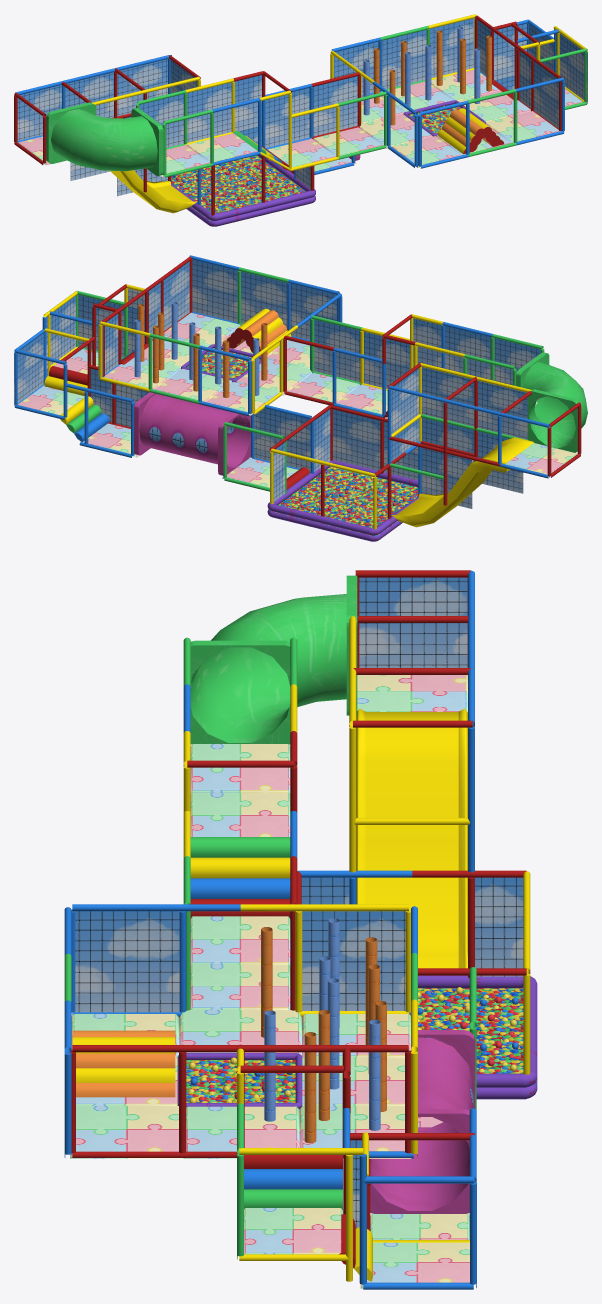
Rendered from playground level.glb.
3 renders of one model, top to bottom at view 1: azimuth 30°, elevation 25°; view 2: azimuth 150°, elevation 25°; view 3: azimuth 270°, elevation 25°, orthographic. The views are drawn at different scales.
Visible parts, largest first — view 1: Tunnel_C2, Ballpit8, pPlane57, pPlane56, pPlane52, pPlane66, pPlane67, pPlane28, pCylinder73, Slide2, pPlane30, pPlane27 (+71 smaller); view 2: Tunnel_S2, Tunnel_C2, Ballpit8, Slide2, pPlane92, pPlane63, pPlane59, pPlane40, pPlane90, pPlane41, pPlane58, pPlane62 (+85 smaller); view 3: Slide2, Tunnel_C2, pPlane64, pPlane32, Tunnel_S2, pPlane69, pCylinder73, Floor28, Floor35, pPlane96, Floor29, Floor21 (+52 smaller).
Part boxes in pixels (bbox=[...]): Tunnel_C2: bbox=[46, 102, 163, 175]; Ballpit8: bbox=[171, 154, 315, 226]; pPlane57: bbox=[313, 76, 357, 136]; pPlane56: bbox=[265, 87, 313, 148]; pPlane52: bbox=[188, 82, 231, 142]; pPlane66: bbox=[382, 30, 426, 89]; pPlane67: bbox=[430, 18, 473, 78]; pPlane28: bbox=[113, 60, 162, 116]; pCylinder73: bbox=[437, 108, 504, 153]; Slide2: bbox=[110, 170, 197, 213]; pPlane30: bbox=[17, 85, 61, 140]; pPlane27: bbox=[65, 72, 113, 117]; Tunnel_S2: bbox=[139, 394, 245, 466]; Tunnel_C2: bbox=[516, 352, 587, 452]; Ballpit8: bbox=[267, 460, 418, 541]; Slide2: bbox=[391, 437, 533, 527]; pPlane92: bbox=[333, 409, 380, 470]; pPlane63: bbox=[192, 259, 237, 322]; pPlane59: bbox=[314, 319, 359, 381]; pPlane40: bbox=[422, 367, 472, 426]; pPlane90: bbox=[260, 408, 310, 471]; pPlane41: bbox=[472, 380, 523, 438]; pPlane58: bbox=[359, 331, 409, 388]; pPlane62: bbox=[241, 271, 286, 326]; Slide2: bbox=[356, 708, 467, 968]; Tunnel_C2: bbox=[190, 575, 357, 744]; pPlane64: bbox=[71, 910, 181, 1012]; pPlane32: bbox=[359, 577, 467, 667]; Tunnel_S2: bbox=[370, 1037, 473, 1206]; pPlane69: bbox=[302, 911, 410, 1012]; pCylinder73: bbox=[72, 1030, 175, 1097]; Floor28: bbox=[70, 1106, 183, 1158]; Floor35: bbox=[244, 1208, 343, 1254]; pPlane96: bbox=[475, 877, 523, 976]; Floor29: bbox=[184, 1106, 299, 1158]; Floor21: bbox=[190, 792, 290, 836].
Bounding box in the file's own units: 0.6251 × 0.1664 × 0.248.
15 materials, 13 textured.
